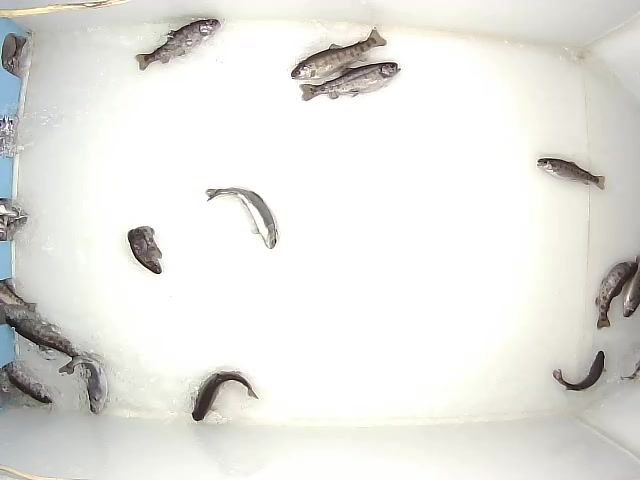fish: (2, 303, 90, 371), (288, 24, 389, 81), (132, 18, 225, 75), (203, 185, 282, 250), (297, 55, 403, 103), (189, 368, 261, 423), (591, 257, 640, 332), (532, 152, 608, 195), (59, 355, 108, 416), (551, 349, 607, 393), (122, 223, 164, 276)
